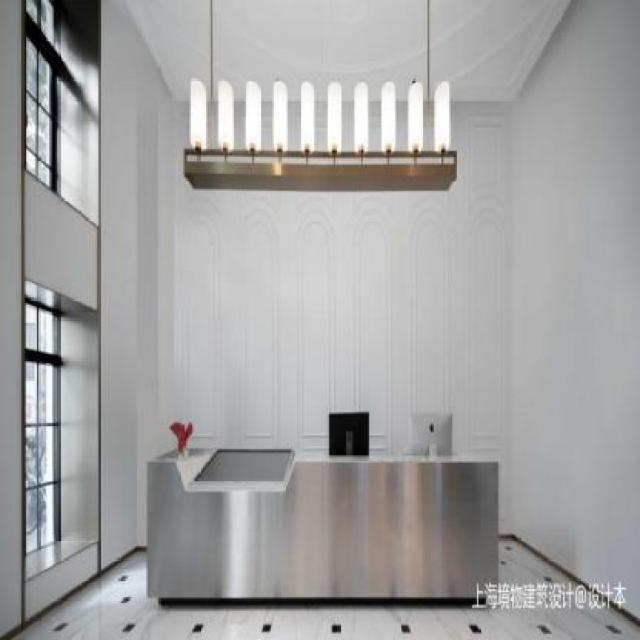frontdesk: (140, 432, 507, 617)
